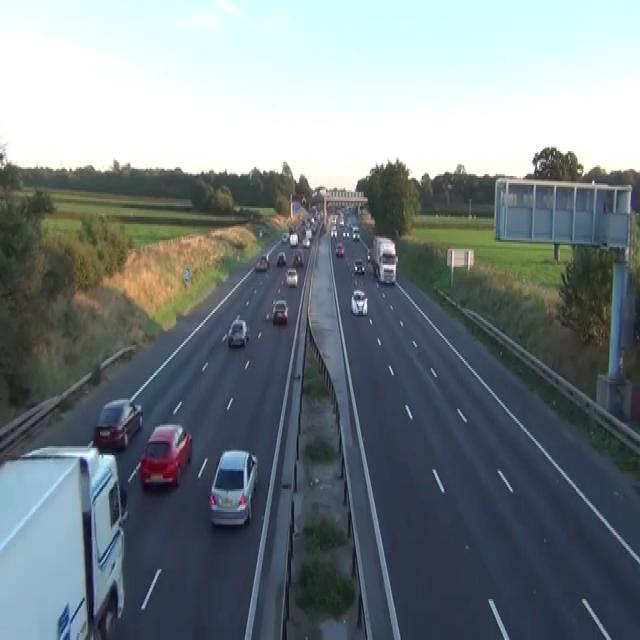Car: (208, 448, 258, 526), (139, 423, 192, 487), (93, 398, 142, 450), (227, 318, 249, 347), (350, 288, 367, 315), (272, 298, 288, 324), (285, 267, 297, 286), (254, 256, 267, 272), (293, 249, 304, 267), (353, 258, 364, 274), (335, 242, 344, 258), (276, 251, 286, 265), (289, 233, 298, 247), (352, 226, 359, 240), (281, 231, 289, 242), (302, 237, 310, 247), (330, 226, 337, 236), (342, 226, 349, 236), (261, 253, 268, 263), (367, 247, 371, 261), (310, 204, 317, 212), (305, 228, 312, 236), (339, 217, 344, 226), (331, 215, 336, 224), (301, 196, 306, 204), (259, 228, 262, 236)
Truck: (0, 443, 127, 638), (370, 234, 398, 284)
